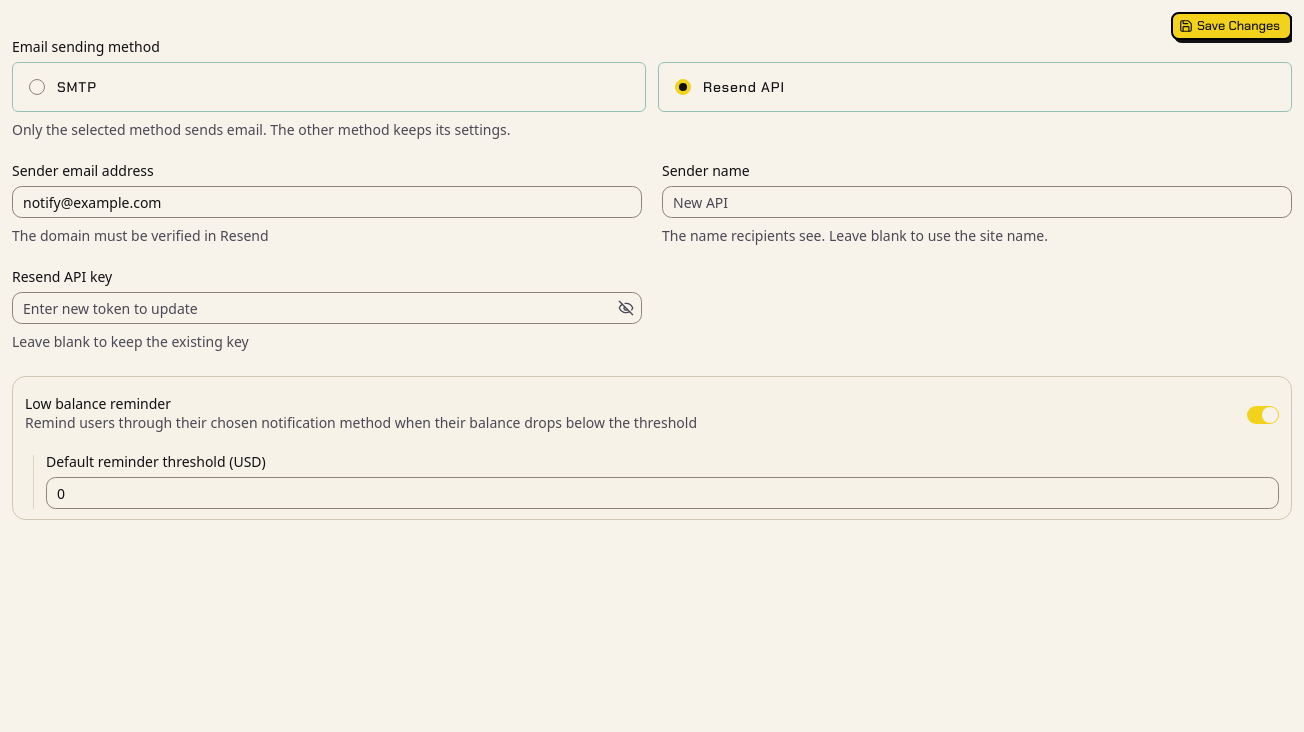
email delivery settings › rejects notify instead of a complete standalone sender email
Replace the text in the field labelled "Sender email address" with "notify": coordinates (327, 202) [12,186,642,218]
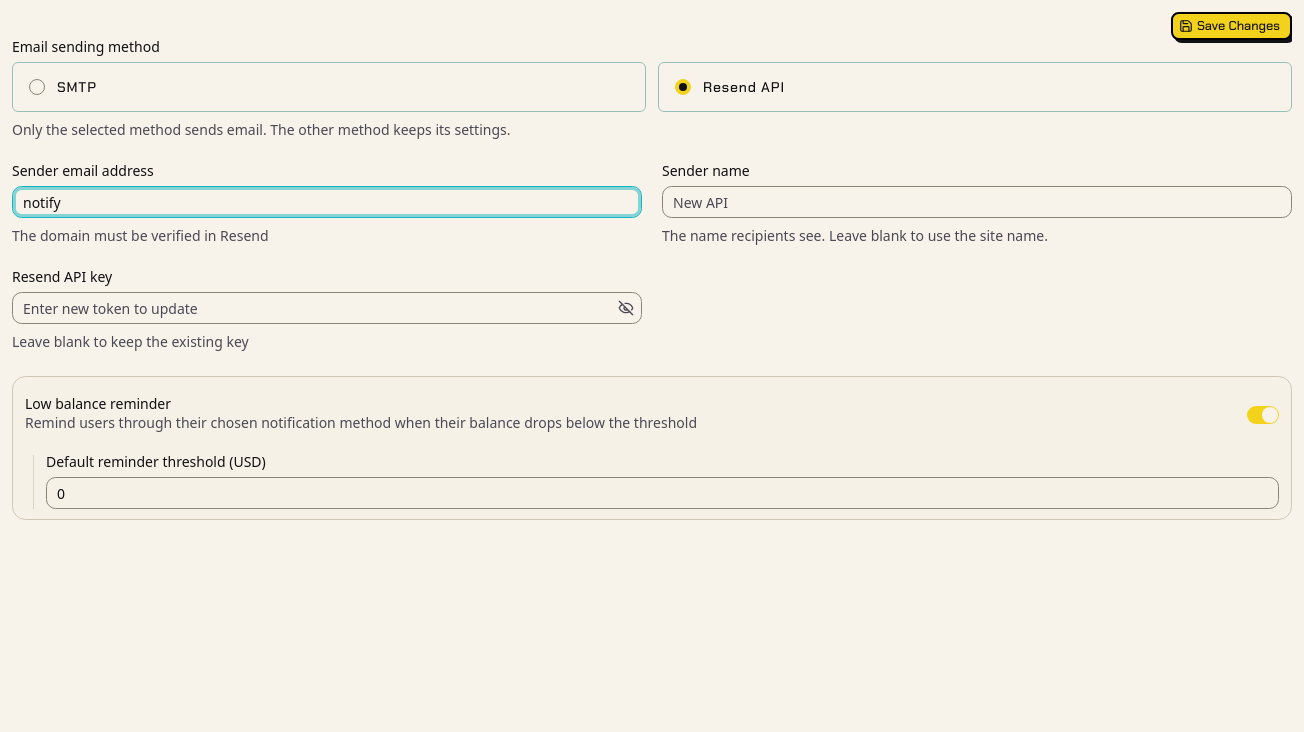
Click the button "Save Changes": coordinates (1231, 26) [1171,12,1292,40]
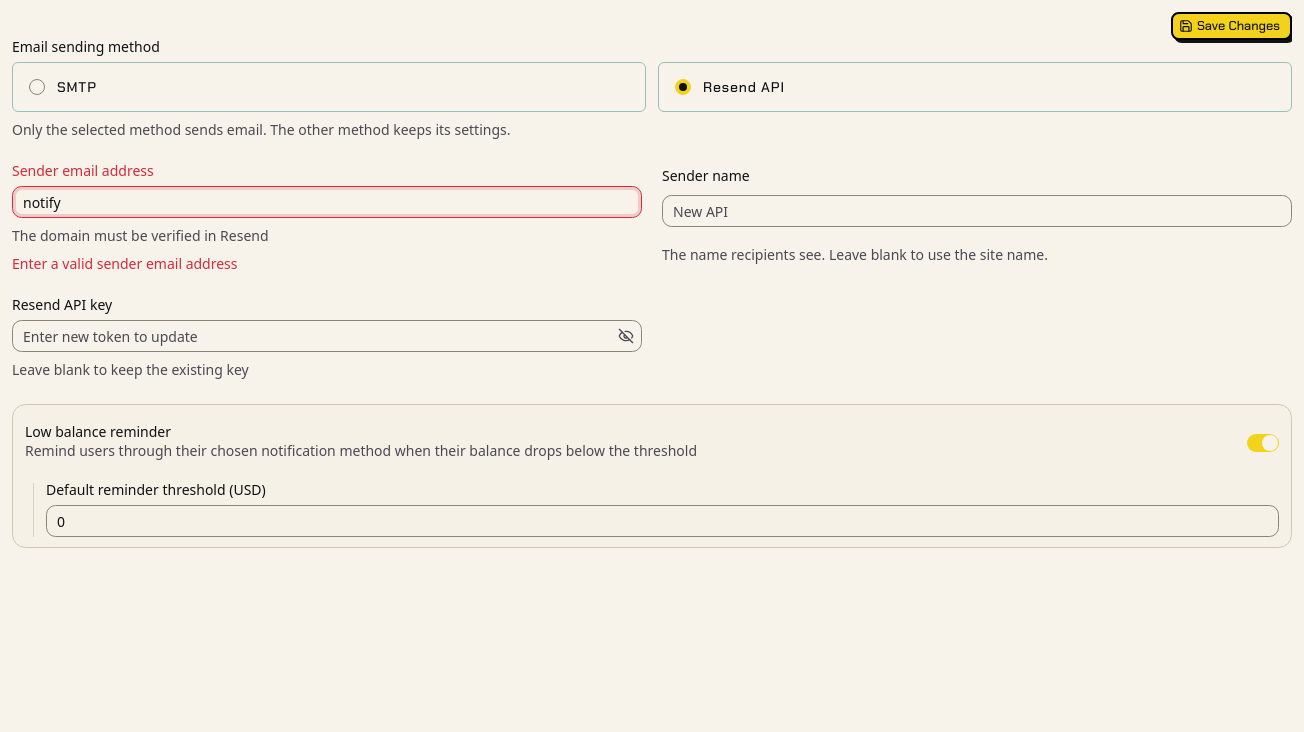
Expected: the text "Enter a valid sender email address" is shown, [12,254,238,273]
